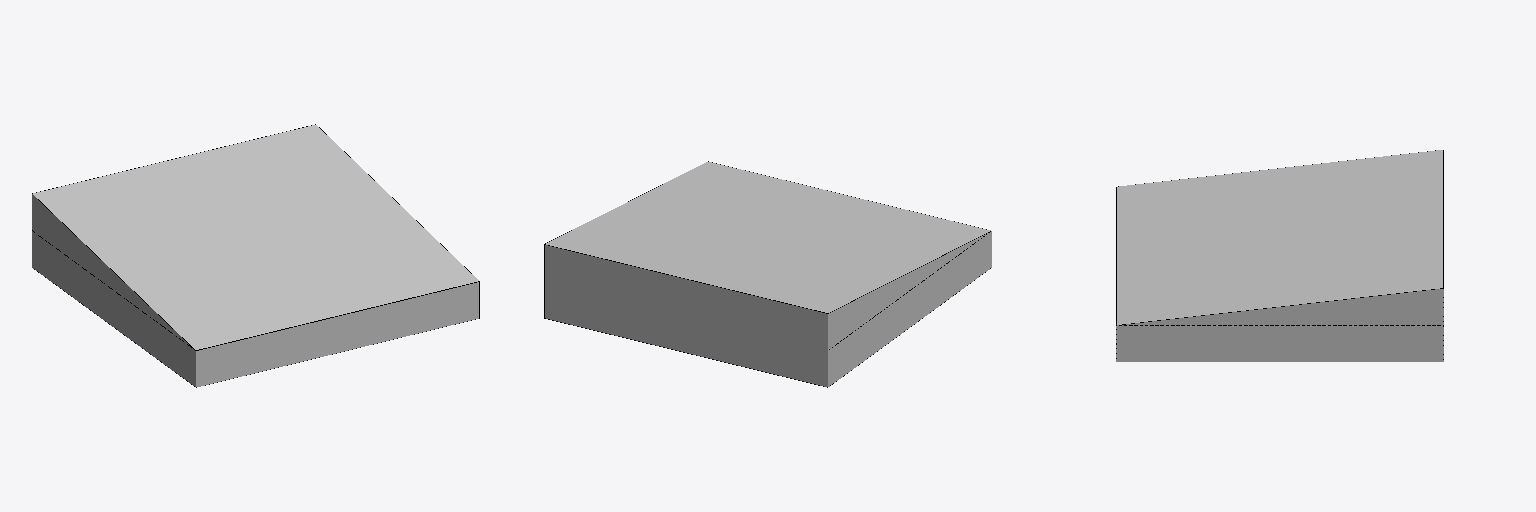
3 renders of one model, left to right at view 1: azimuth 30°, elevation 25°; view 2: azimuth 150°, elevation 25°; view 3: azimuth 270°, elevation 25°, orthographic.
Parts seen in each view (by area): view 1: slanted_roof_Cube.004; view 2: slanted_roof_Cube.004; view 3: slanted_roof_Cube.004.
Part boxes in pixels (x1,y1,x2,y2): slanted_roof_Cube.004: (32,124,479,387); slanted_roof_Cube.004: (544,161,991,387); slanted_roof_Cube.004: (1116,150,1443,361).
Bounding box in the file's own units: 16 × 4 × 16.
1 materials, 1 textured.